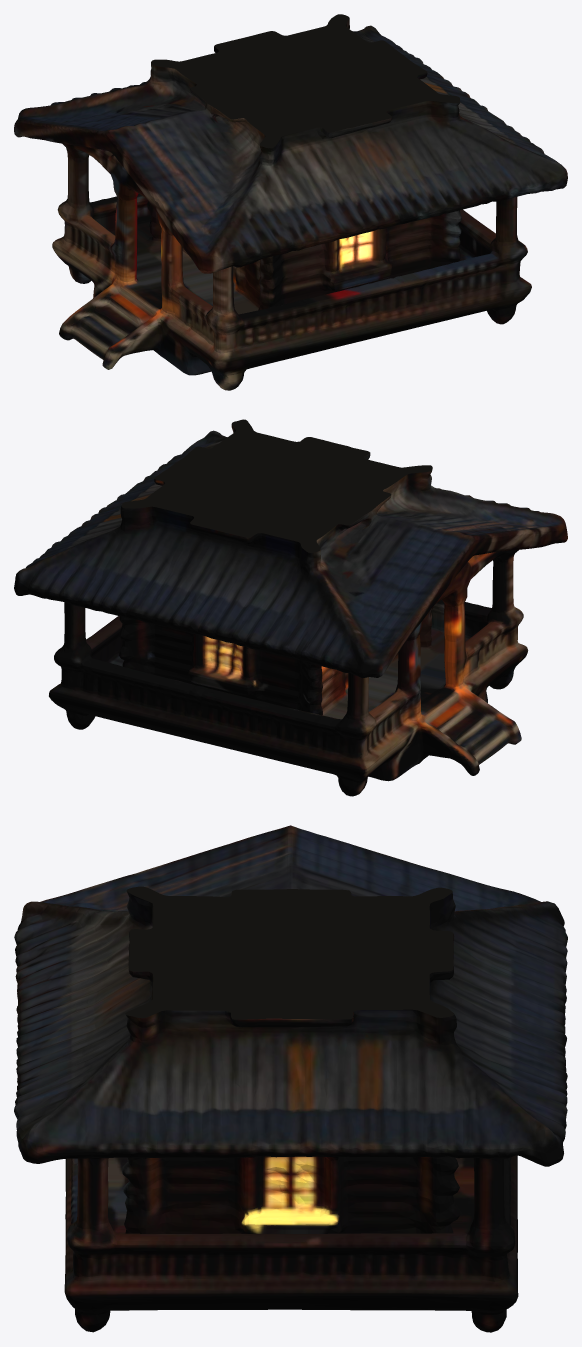
The model's file is terem_plate.glb.
The picture shows the model from 3 angles, top to bottom: view 1: azimuth 30°, elevation 25°; view 2: azimuth 150°, elevation 25°; view 3: azimuth 270°, elevation 25°; orthographic projection. The views are drawn at different scales.
Parts seen in each view (by area): view 1: terem_plate; view 2: terem_plate; view 3: terem_plate.
Part boxes in pixels (x1=…): terem_plate: x1=14, y1=14, x2=567, y2=390; terem_plate: x1=14, y1=419, x2=567, y2=796; terem_plate: x1=14, y1=825, x2=567, y2=1332.
Size of the model in its own units: 3.62 by 1.94 by 3.25.
Materials: 1 (1 with a texture image).
